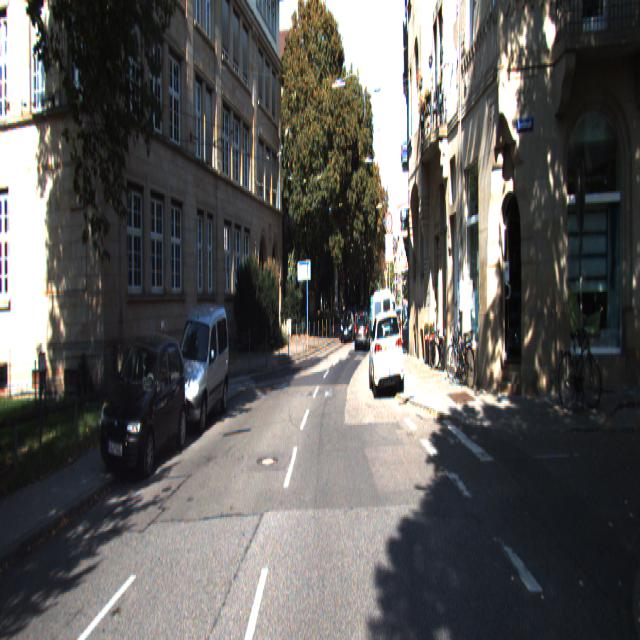Car: (94, 330, 189, 491), (165, 300, 230, 440), (367, 308, 405, 402), (371, 286, 393, 385), (354, 311, 369, 353), (340, 310, 356, 344)
